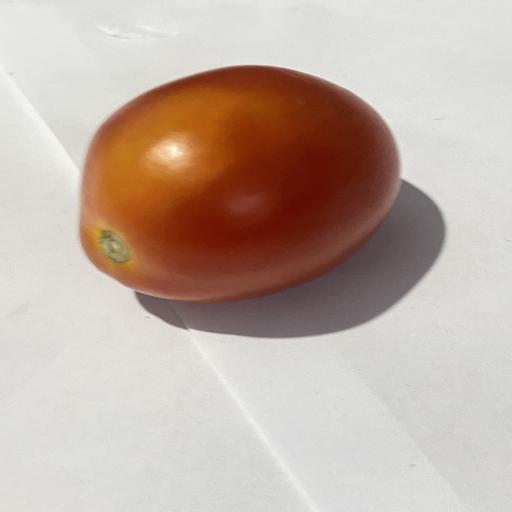ripe: (79, 65, 401, 302)
